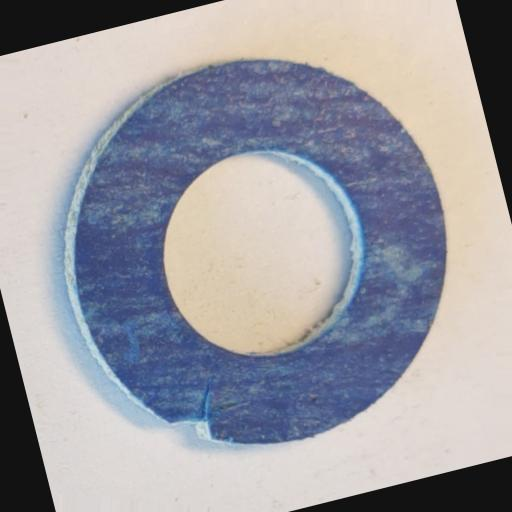defect: (164, 372, 254, 450)
